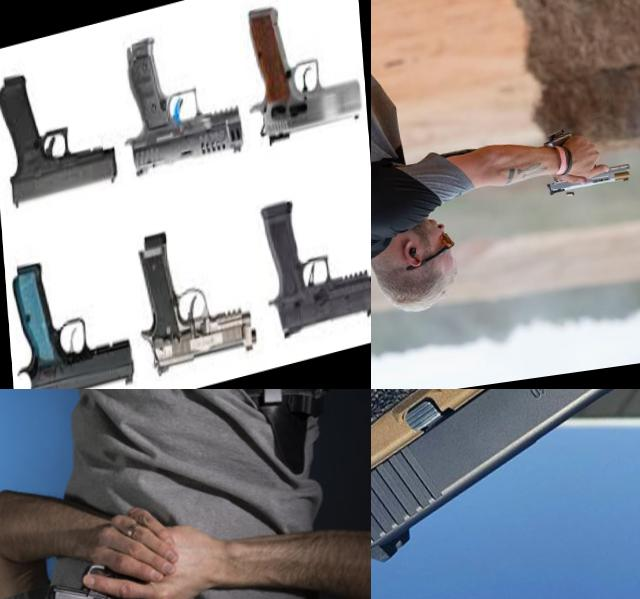handgun: (371, 389, 640, 599), (114, 8, 245, 184), (132, 206, 260, 382), (6, 234, 136, 389), (255, 173, 371, 346), (0, 45, 119, 213), (239, 0, 363, 154), (29, 540, 182, 599), (536, 118, 633, 202)
